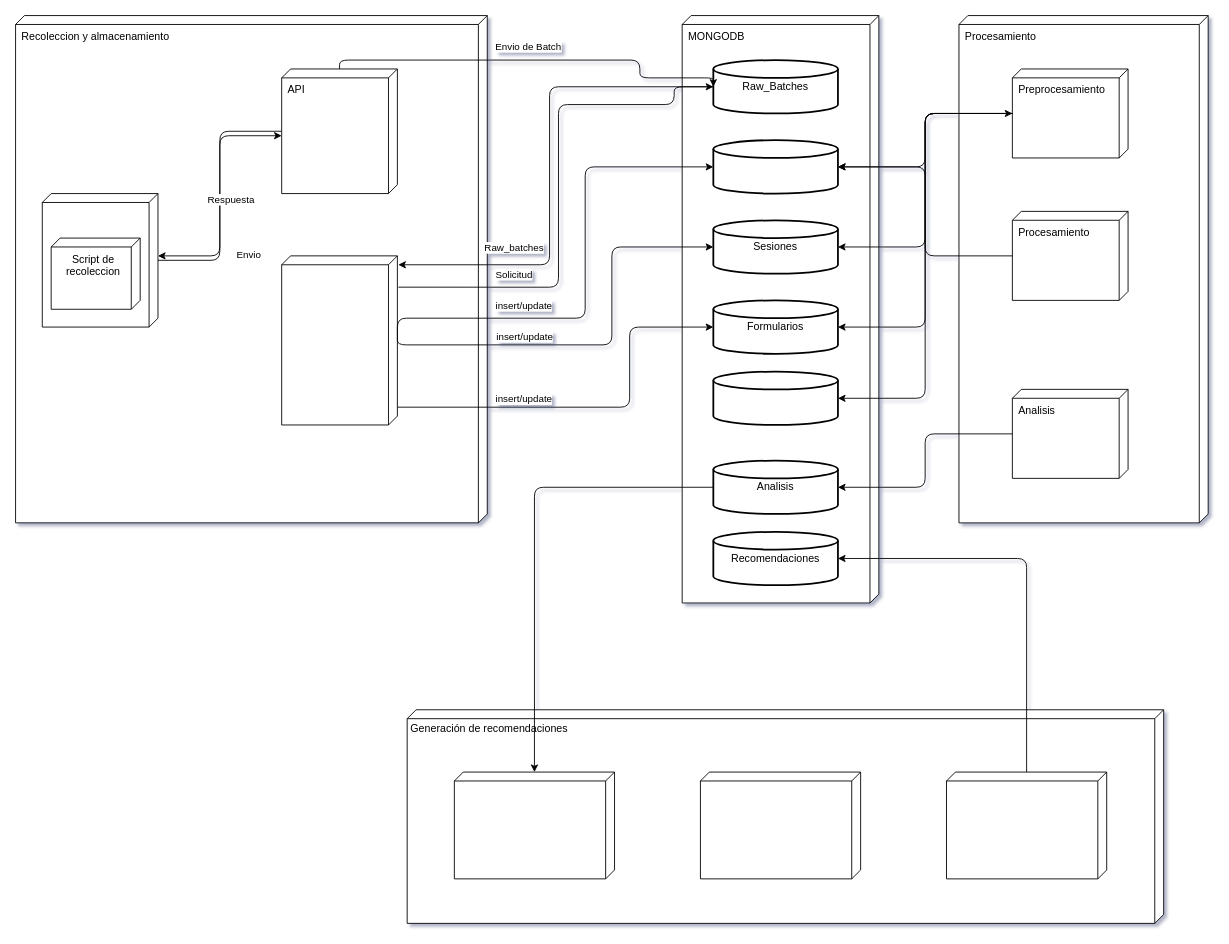
Some shapes in this 1229 by 944 pixel diagram are drawn without their labels. The centre of each missing label's shape, as x and y in pixels:
CRON: (339,340)
Eventos: (775,166)
Extracción de métricas y datos: (534,825)
Generación de recomendacion base: (780,825)
Organización y almacenamiento: (1026,825)
Sitio web: (99,260)
Usuarios: (775,397)
